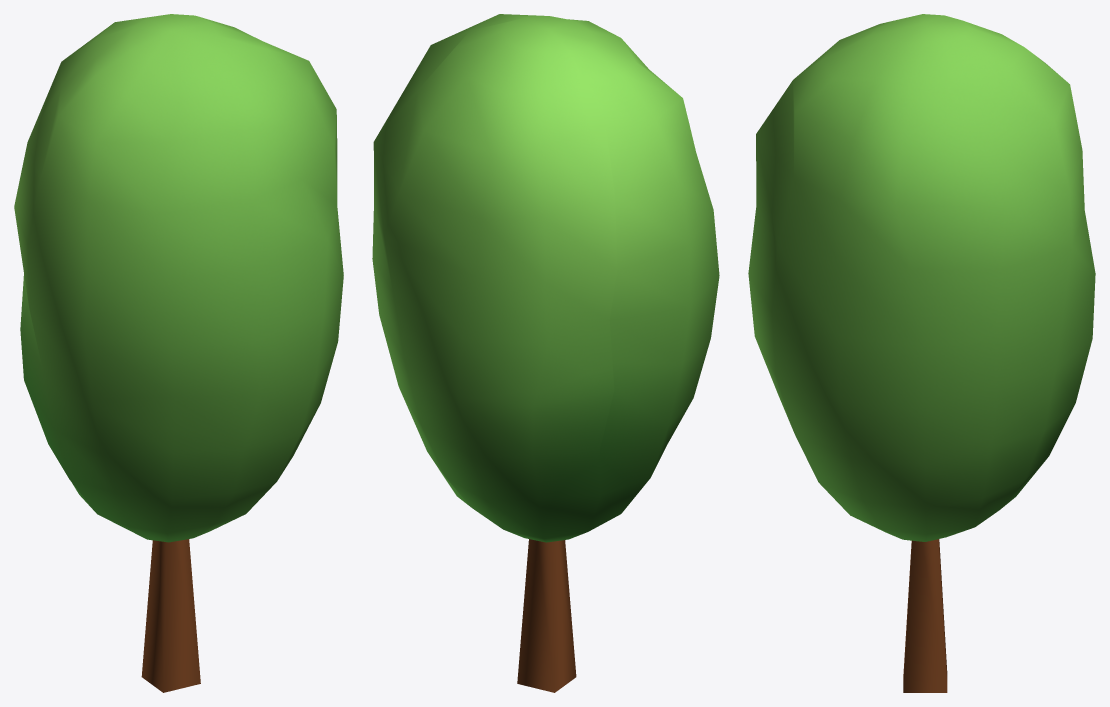
Rendered from tree_sheep3.fbx.
3 renders of one model, left to right at view 1: azimuth 30°, elevation 25°; view 2: azimuth 150°, elevation 25°; view 3: azimuth 270°, elevation 25°, orthographic.
Parts seen in each view (by area): view 1: tree_sheep3; view 2: tree_sheep3; view 3: tree_sheep3.
Part boxes in pixels (<box>): tree_sheep3: <box>14,14,343,692</box>; tree_sheep3: <box>372,14,719,692</box>; tree_sheep3: <box>748,14,1095,692</box>.
Bounding box in the file's own units: 202 × 416 × 198.
Materials: 1 (1 with a texture image).
